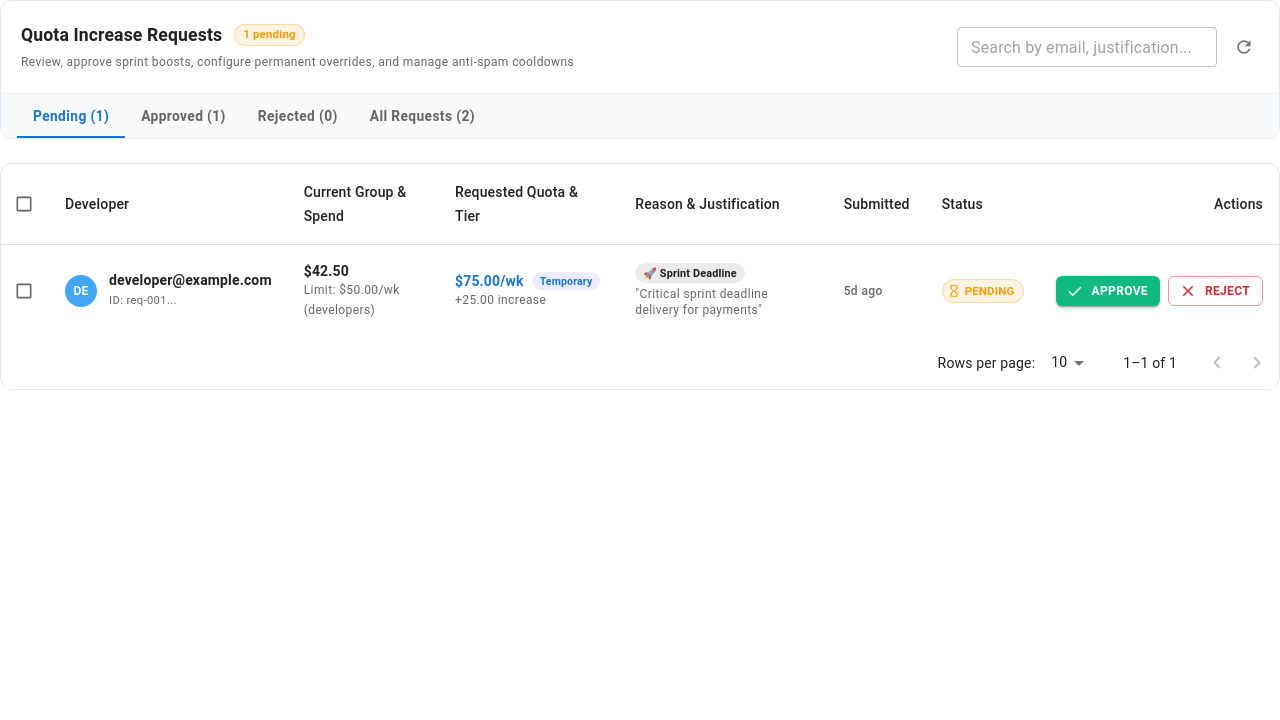
it: Developer Self-Service & Quota Requests Components › RequestsTab › opens approval dialog when Approve is clicked
Click the button "Approve" at (1108, 291), box [1056,276,1160,306]
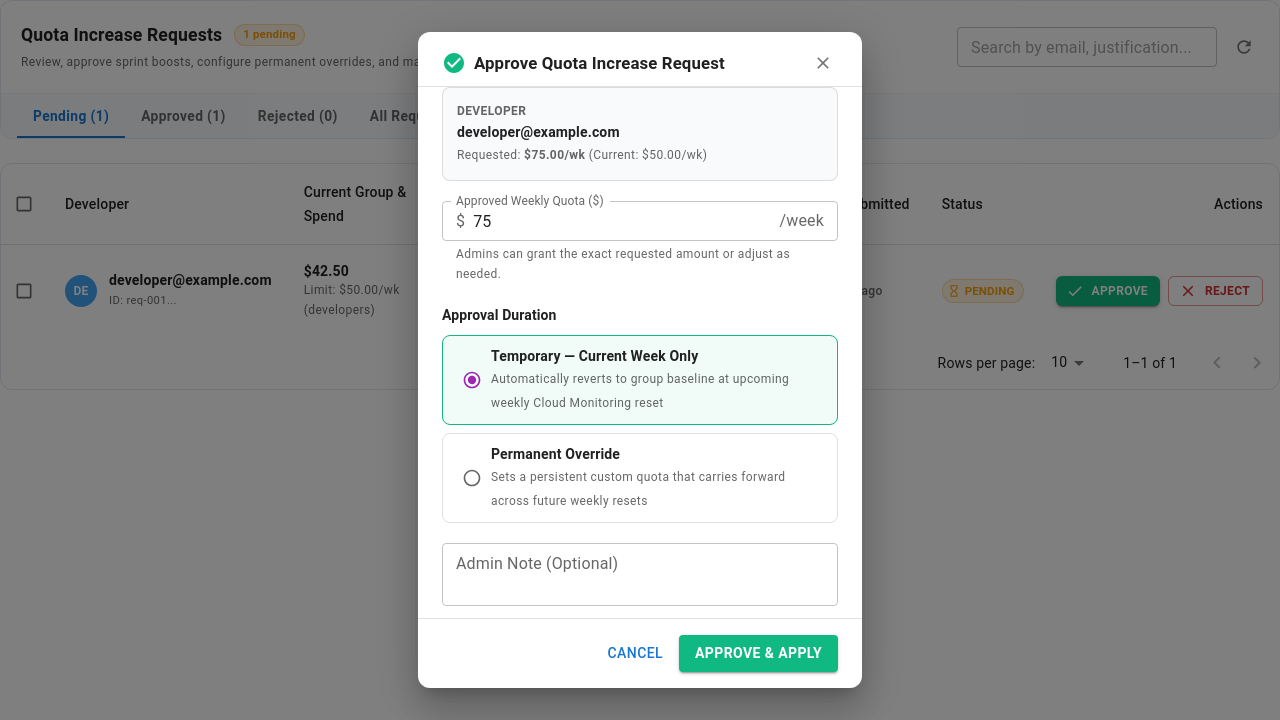
Result: the heading "Approve Quota Increase Request" is shown at [474,50,725,77]
Result: the number field labelled "Approved Weekly Quota ($)" is shown at [473,201,772,241]
Result: the text "Temporary — Current Week Only" is shown at [491,348,698,364]
